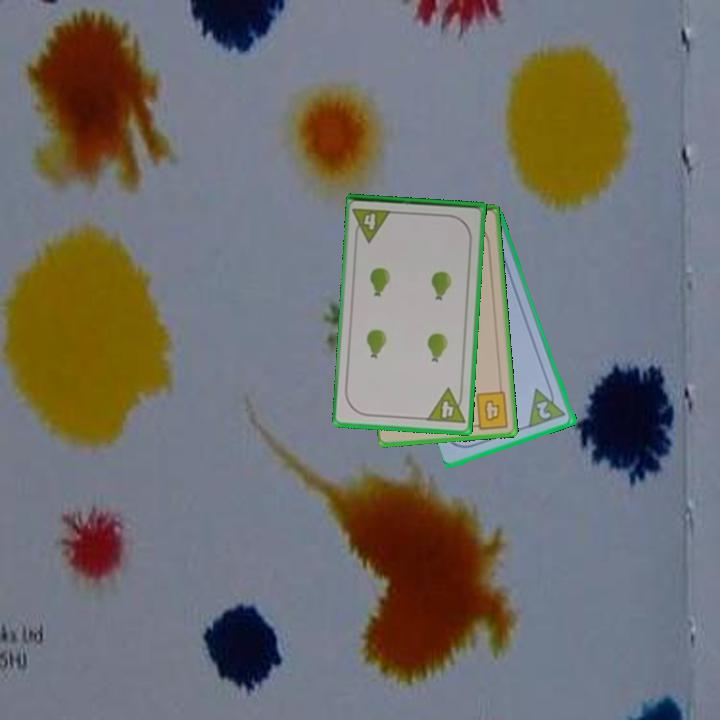2p: (533, 398, 554, 422)
4b: (468, 388, 512, 432)
4p: (423, 385, 468, 427), (350, 204, 395, 245)
